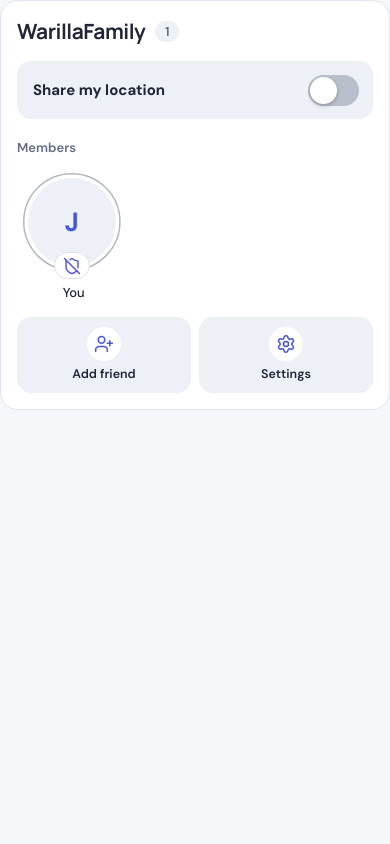
Test case: Household › keeps shared vehicles and membership in Settings
The width and height of the screenshot is (390, 844).
Click the button "Settings".
click(286, 355)  # box [199,317,373,393]
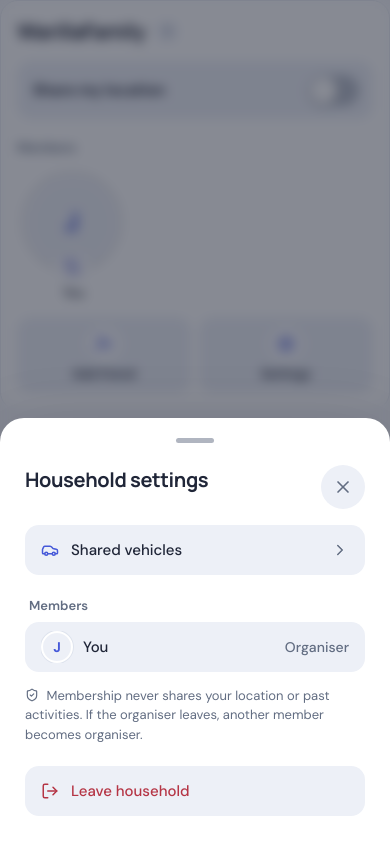
Click the button "Shared vehicles".
click(127, 550)  # box [25,524,365,574]
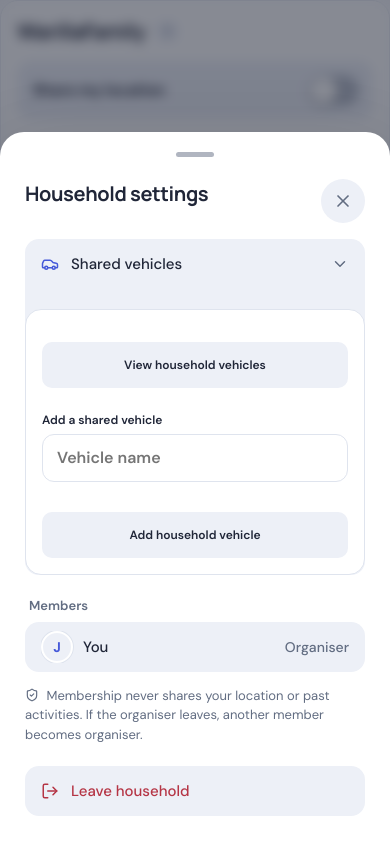
Click the button "View household vehicles".
click(195, 364)  # box [42,342,348,388]
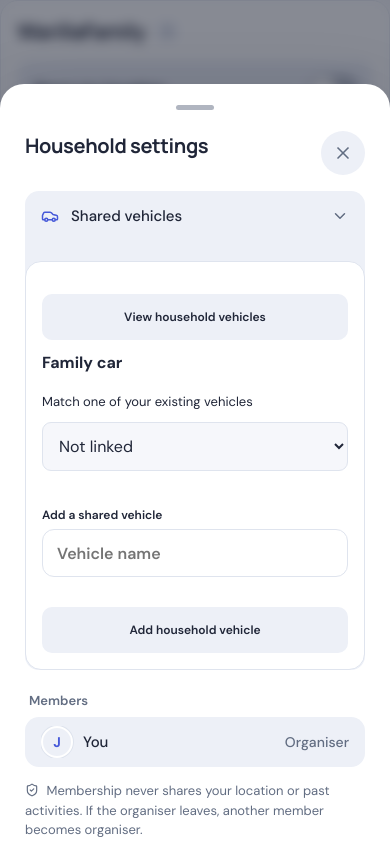
Now the button "Add household vehicle" is shown, box [42,607,348,653]
Now the text "Organiser" is shown, box [285,733,349,751]
Now the text "Family car" is shown, box [42,352,122,373]
